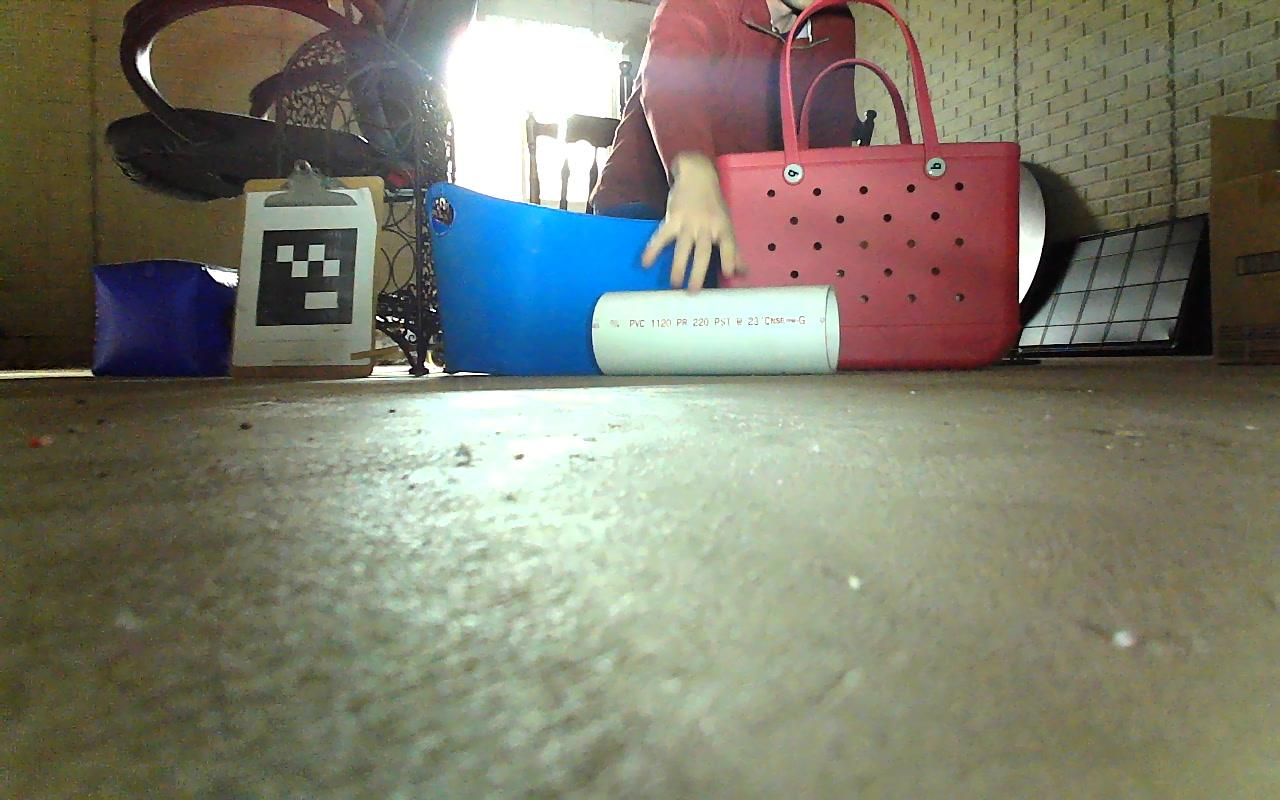coral: (592, 285, 840, 374)
